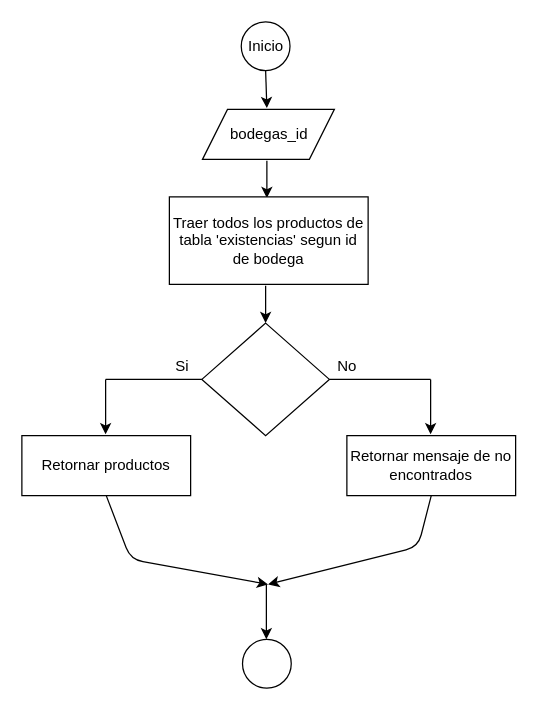
The diagram is 538 pixels wide and 710 high, and some of its shapes have lost their labels. The shapes that lost their labels are listed below. From the top down, each one's box as (x1, y1, x2, y2) in pixels, then its label:
(201, 322, 329, 436): $data != null
(241, 638, 291, 688): Fin
